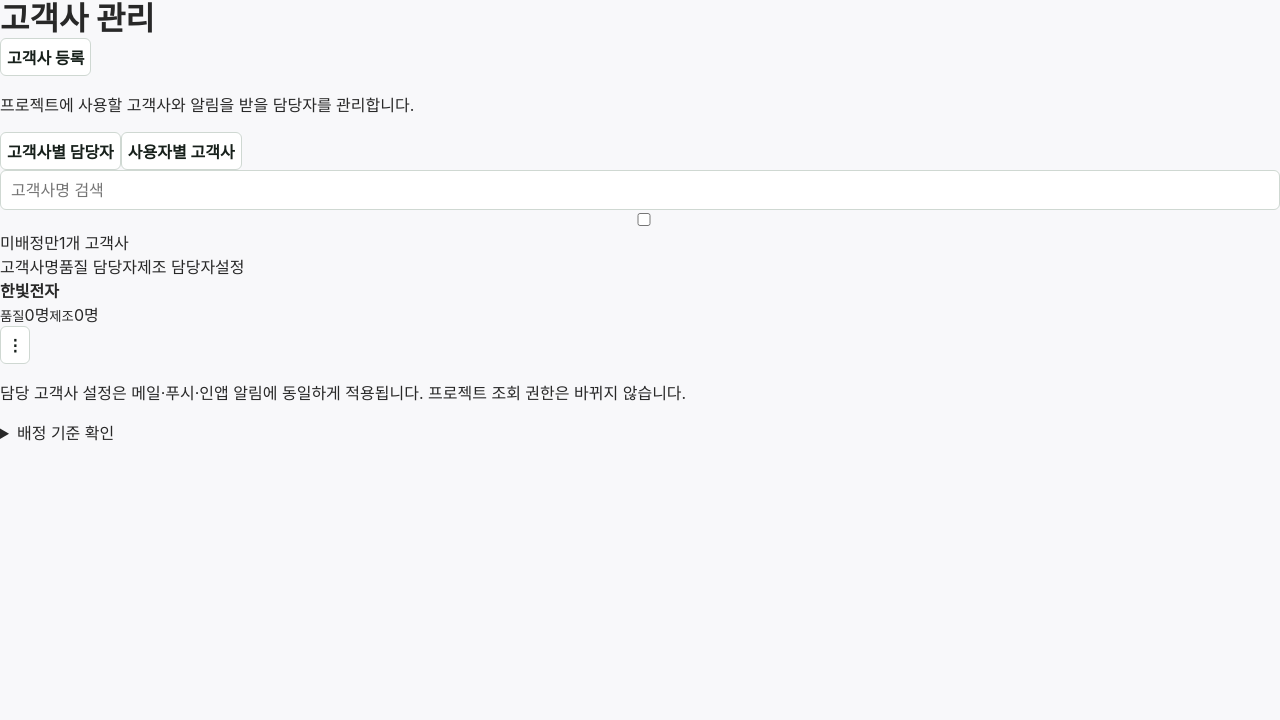
Test: 신규 고객사를 등록하며 담당자가 없는 상태를 안내한다
Expected: the button named "한빛전자 더보기" is shown, left=0, top=326, right=30, bottom=364
Click the button "고객사 등록".
click(46, 57)  # box left=0, top=38, right=91, bottom=76
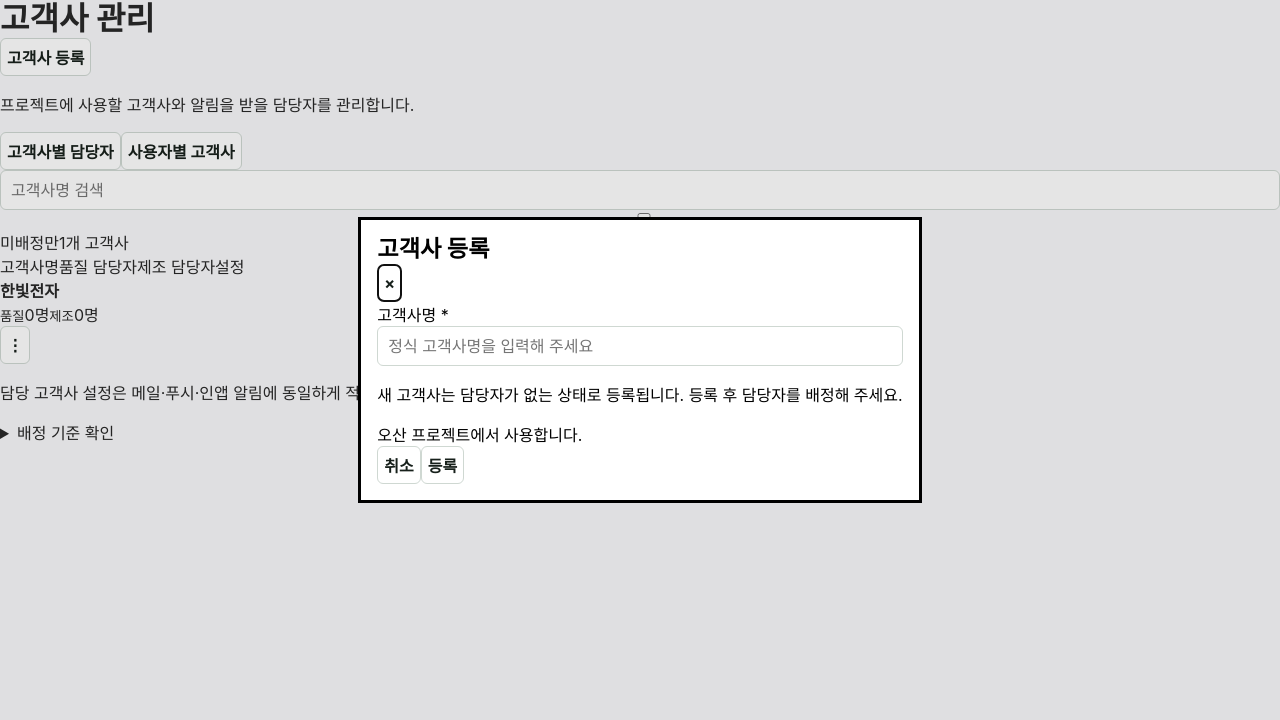
Type "새 고객사" into the field with placeholder "정식 고객사명을 입력해 주세요".
click(640, 346); type("새 고객사")  # box left=377, top=326, right=903, bottom=366
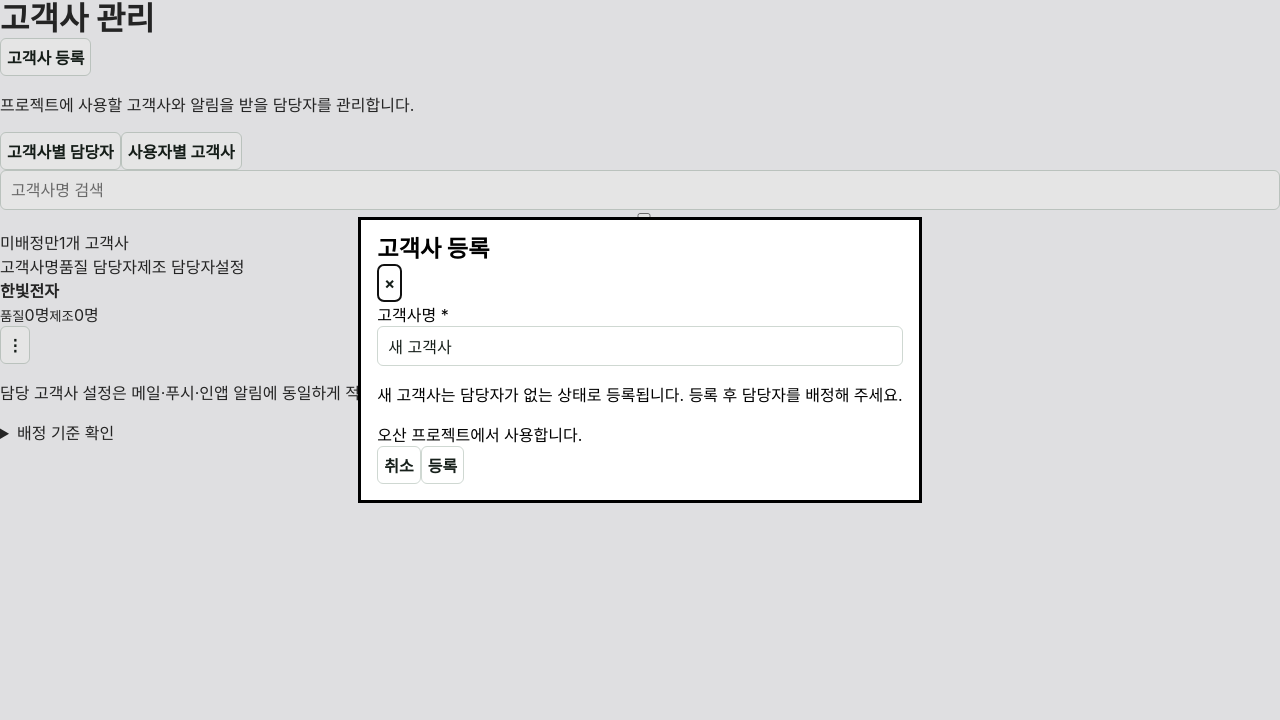
Click the button "등록".
click(443, 465)  # box left=421, top=446, right=464, bottom=484
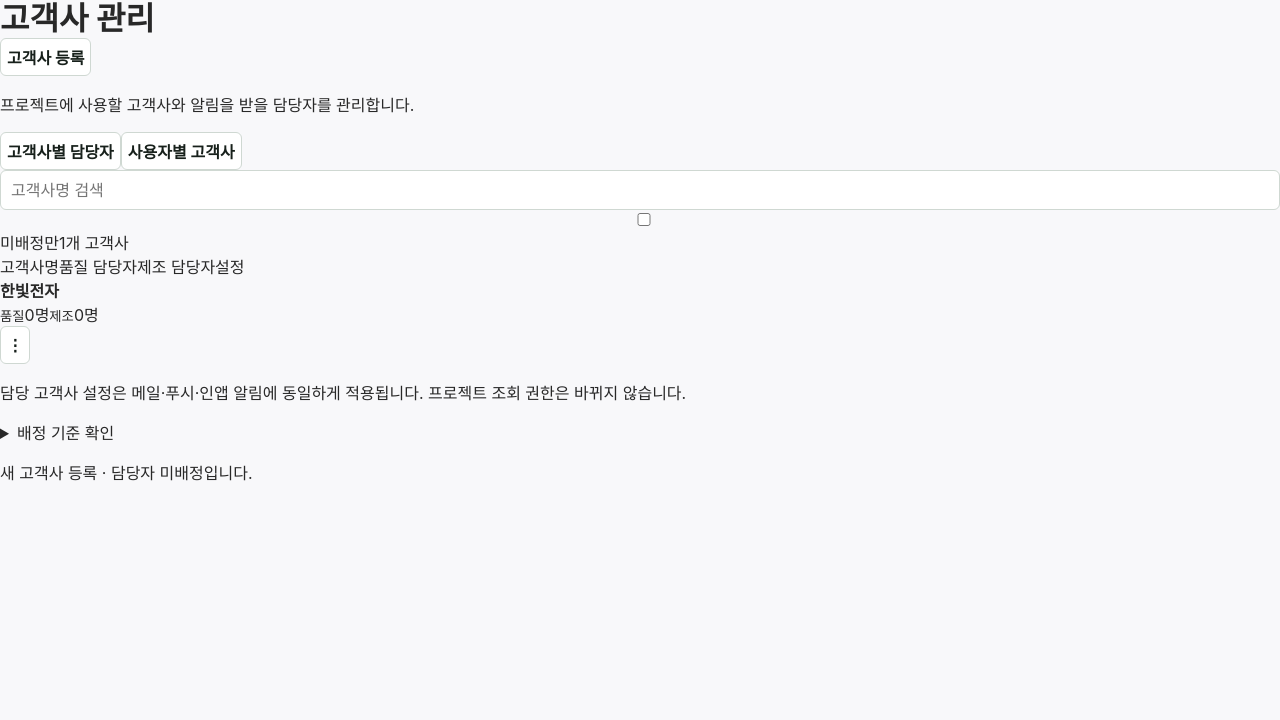
Result: the text "새 고객사 등록 · 담당자 미배정입니다." is shown at left=0, top=463, right=252, bottom=483
